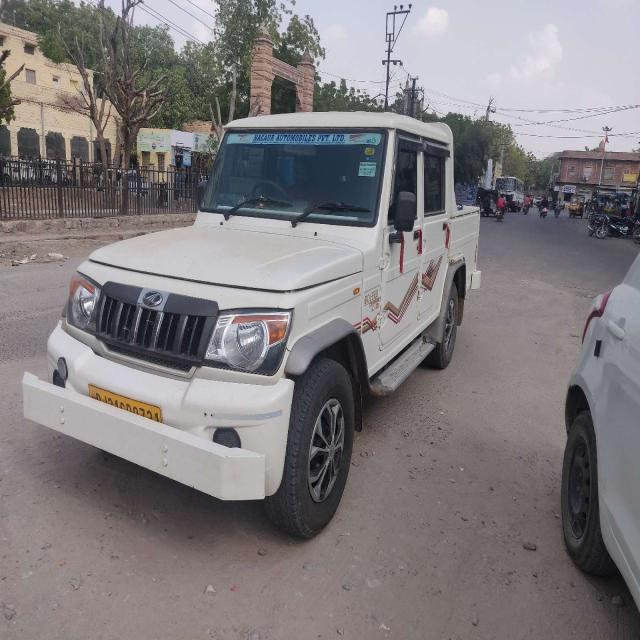light_vehicle: (52, 116, 474, 476)
